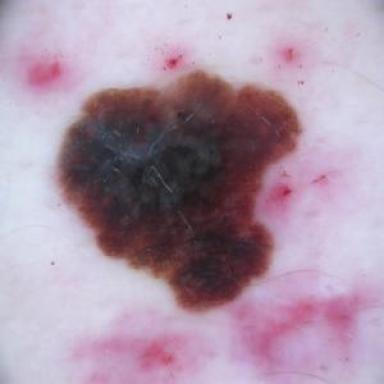Melanoma: (59, 71, 301, 309)
